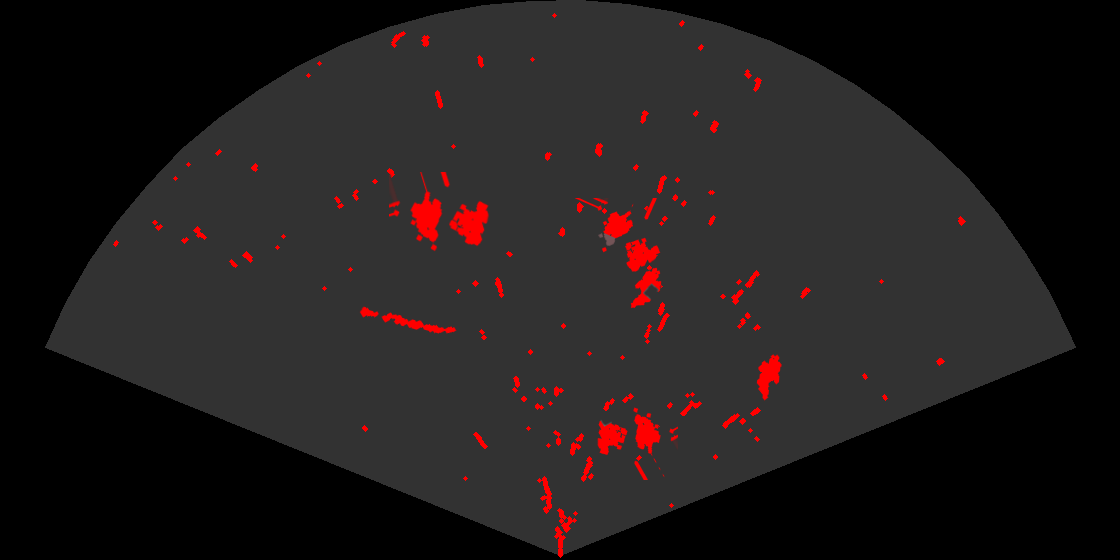AUV: (629, 266, 663, 310), (755, 353, 783, 402)
cage: (389, 172, 491, 253), (575, 198, 662, 273), (596, 406, 678, 480)
chain: (358, 305, 458, 335)
